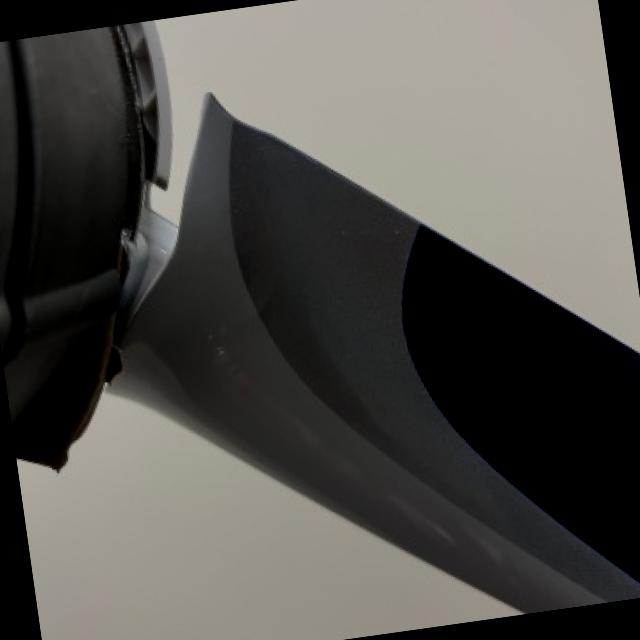healthy: (19, 381, 523, 640)
